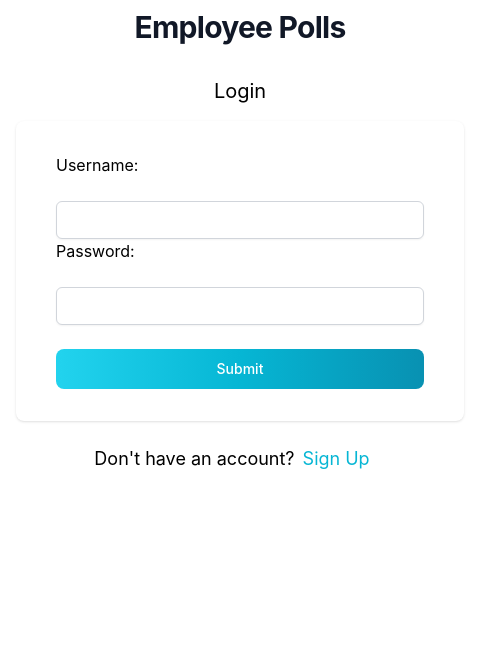
Test: Login › will display the signup page if the sign up button is clicked
Click the button with test id "submit2" at (336, 459), box [295,445,378,473]
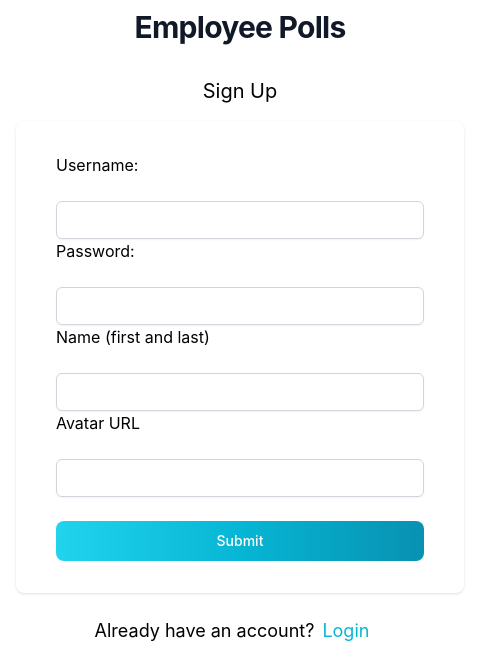
Expected: the heading "Sign Up" is shown, [203,79,277,103]
